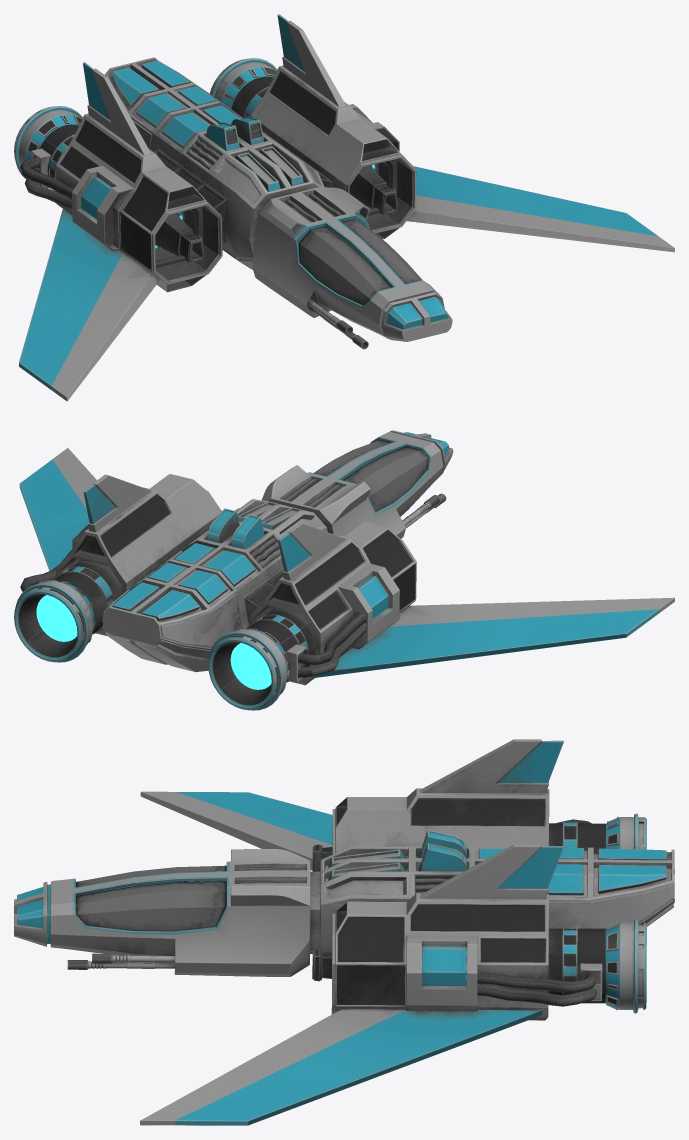
The model's file is spaceship.glb.
3 renders of one model, top to bottom at view 1: azimuth 30°, elevation 25°; view 2: azimuth 150°, elevation 25°; view 3: azimuth 270°, elevation 25°, orthographic. The views are drawn at different scales.
Parts seen in each view (by area): view 1: Starship; view 2: Starship; view 3: Starship.
Boxes of the visible parts, x1,y1,x2,y2 form: Starship: (14,14,674,401); Starship: (14,430,674,710); Starship: (14,739,674,1125).
Bounding box in the file's own units: 25.92 × 6.51 × 21.89.
1 material, 1 textured.
